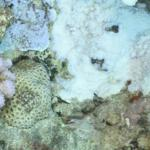alive: (3, 2, 148, 147)
